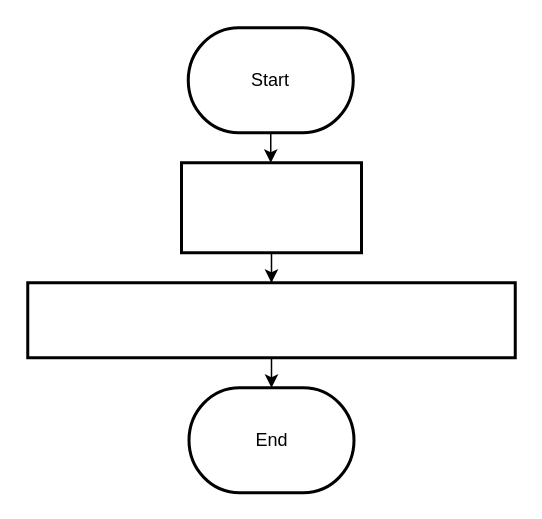
This 542x519 diagram has some shape labels left out. Each missing label, with the box of its shape:
distance = sqrt((p2_x - p1_x) ** 2 + (p2_y - p1_y) ** 2): (26, 280, 516, 358)
p1_x = p1_x p1_y = p1_y p2_x = p2_x p2_y = p2_y: (179, 160, 362, 254)
